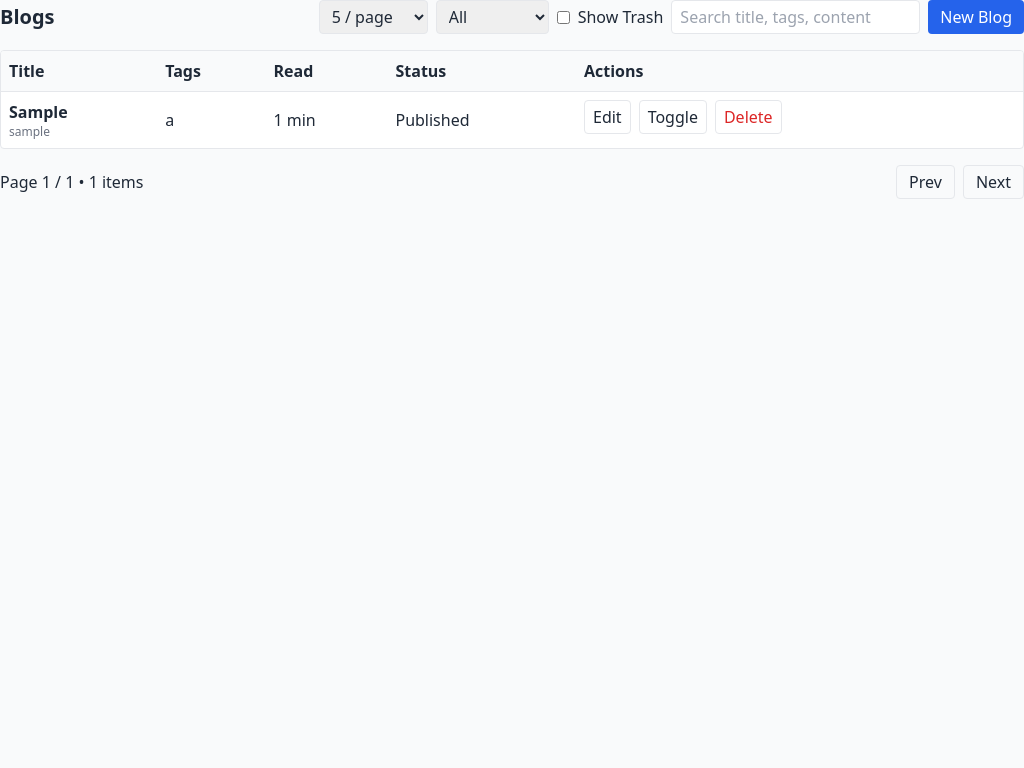
Test: BlogsPage › renders list and can create a blog
The image size is (1024, 768).
Step 1. Click the button "New Blog" → (976, 17), box [928,0,1023,34]
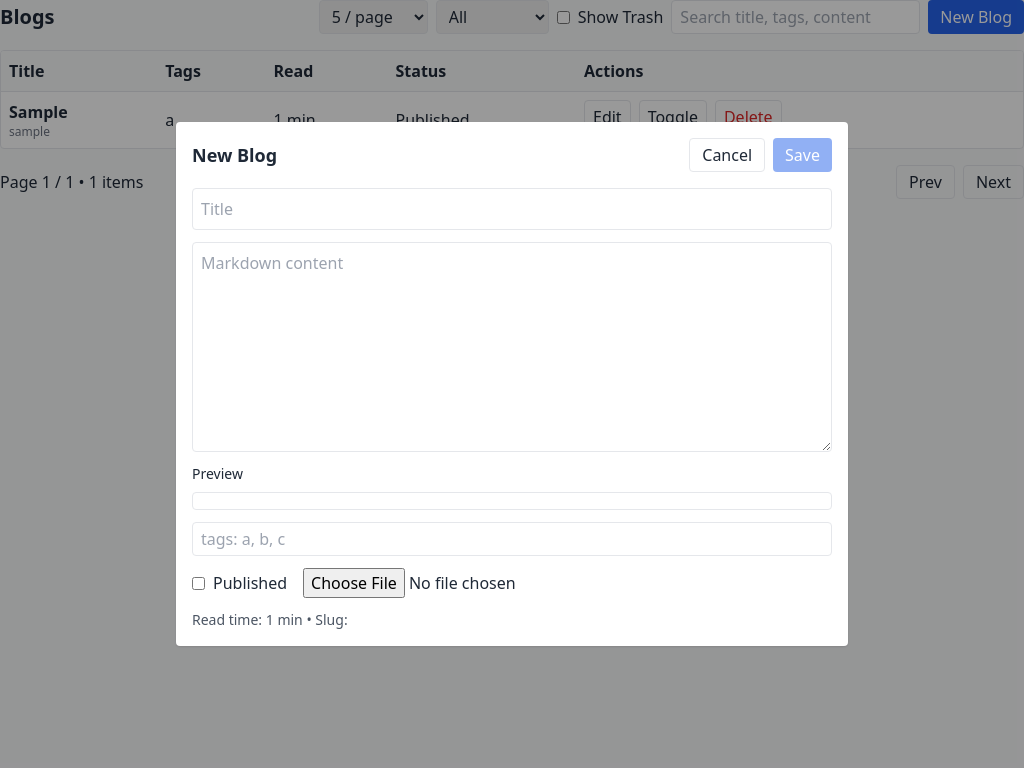
Step 2. Type "Test Create" into the field with placeholder "Title" → (512, 209), box [192,188,832,230]
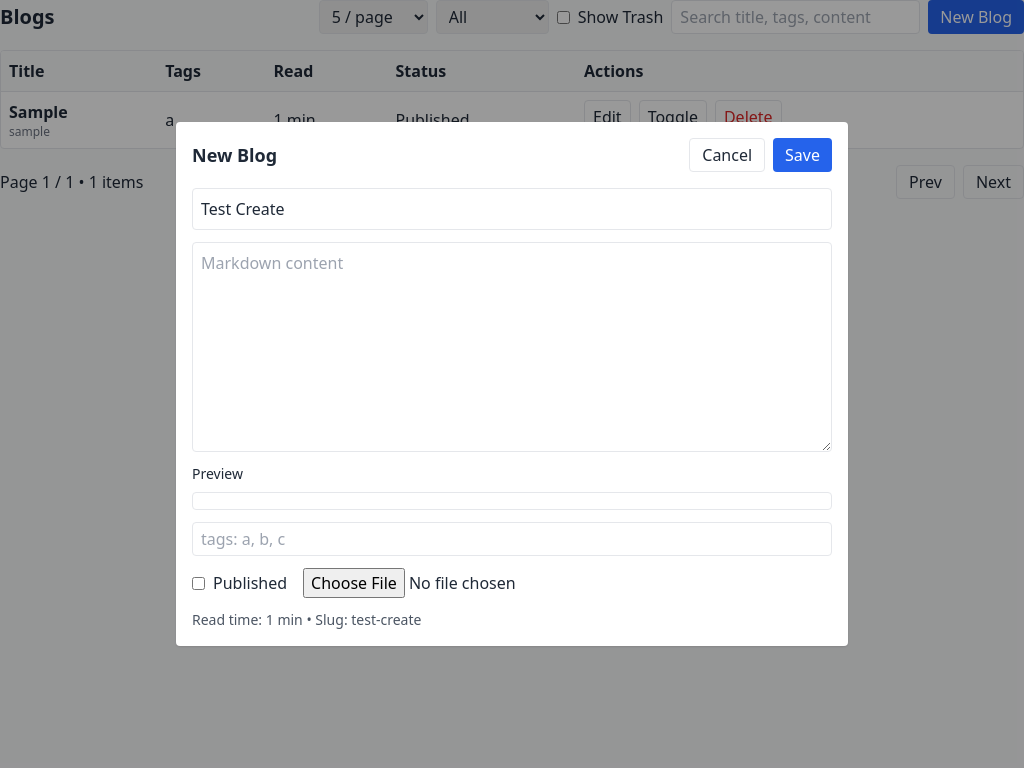
Step 3. Type "body" into the text box with placeholder "Markdown content" → (512, 347), box [192,242,832,452]
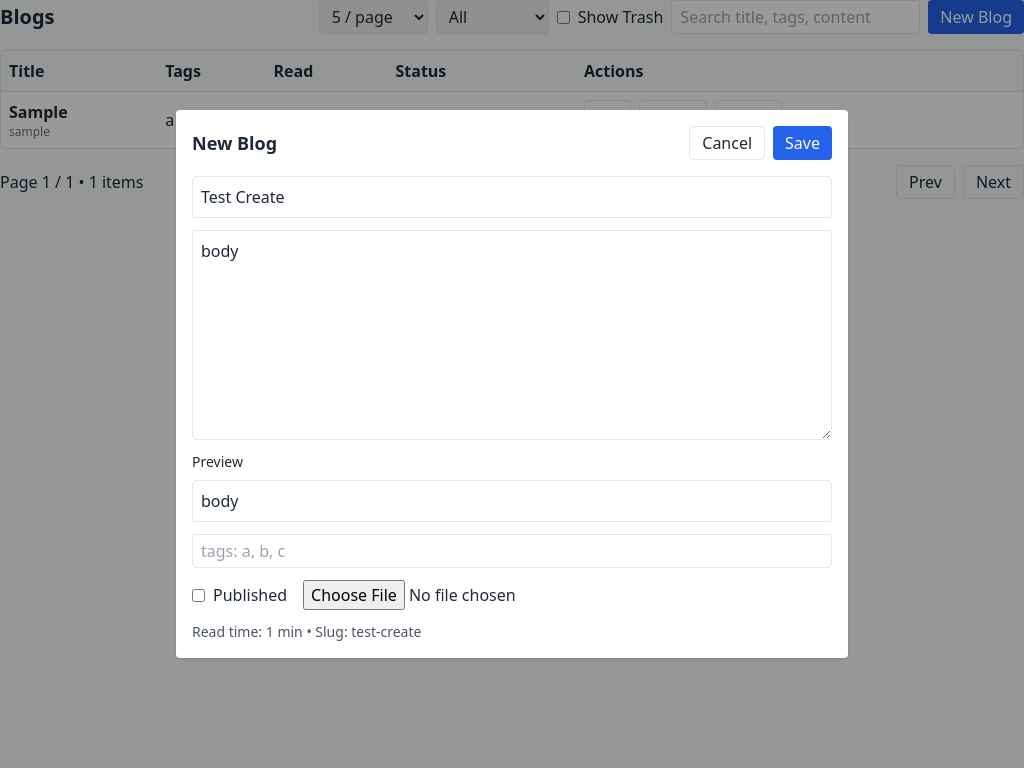
Step 4. Click the button "Save" → (803, 143), box [773,126,832,160]
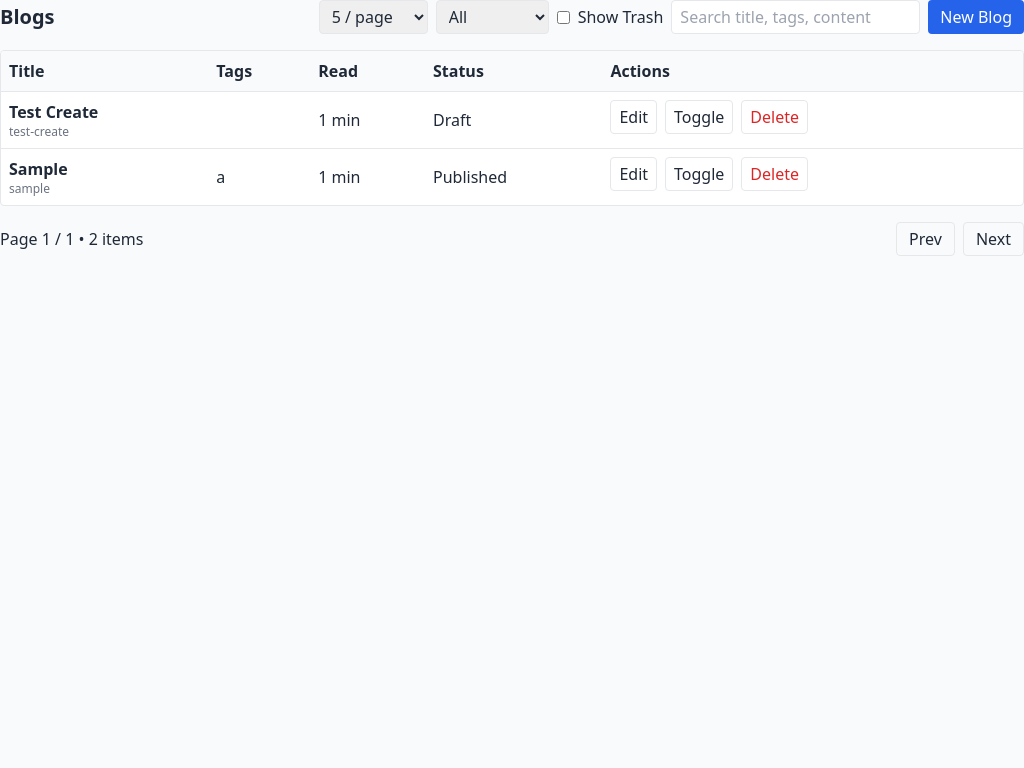
Expected: the text "Test Create" is shown, [9,101,98,123]
